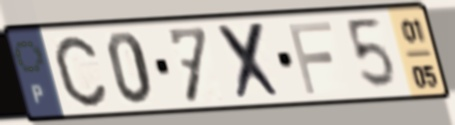0: (104, 29, 155, 108)
5: (340, 15, 400, 93)
7: (165, 24, 211, 105)
C: (51, 33, 110, 110)
F: (284, 19, 335, 97)
X: (214, 19, 287, 104)
